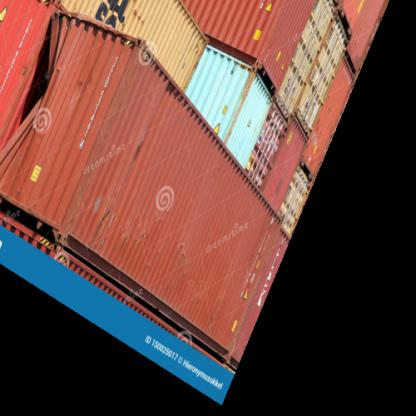Damage: (5, 18, 70, 136)
